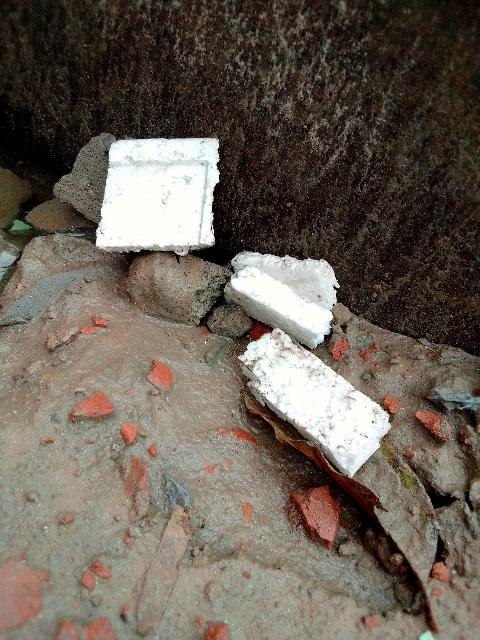cocksheet: (91, 114, 402, 492)
